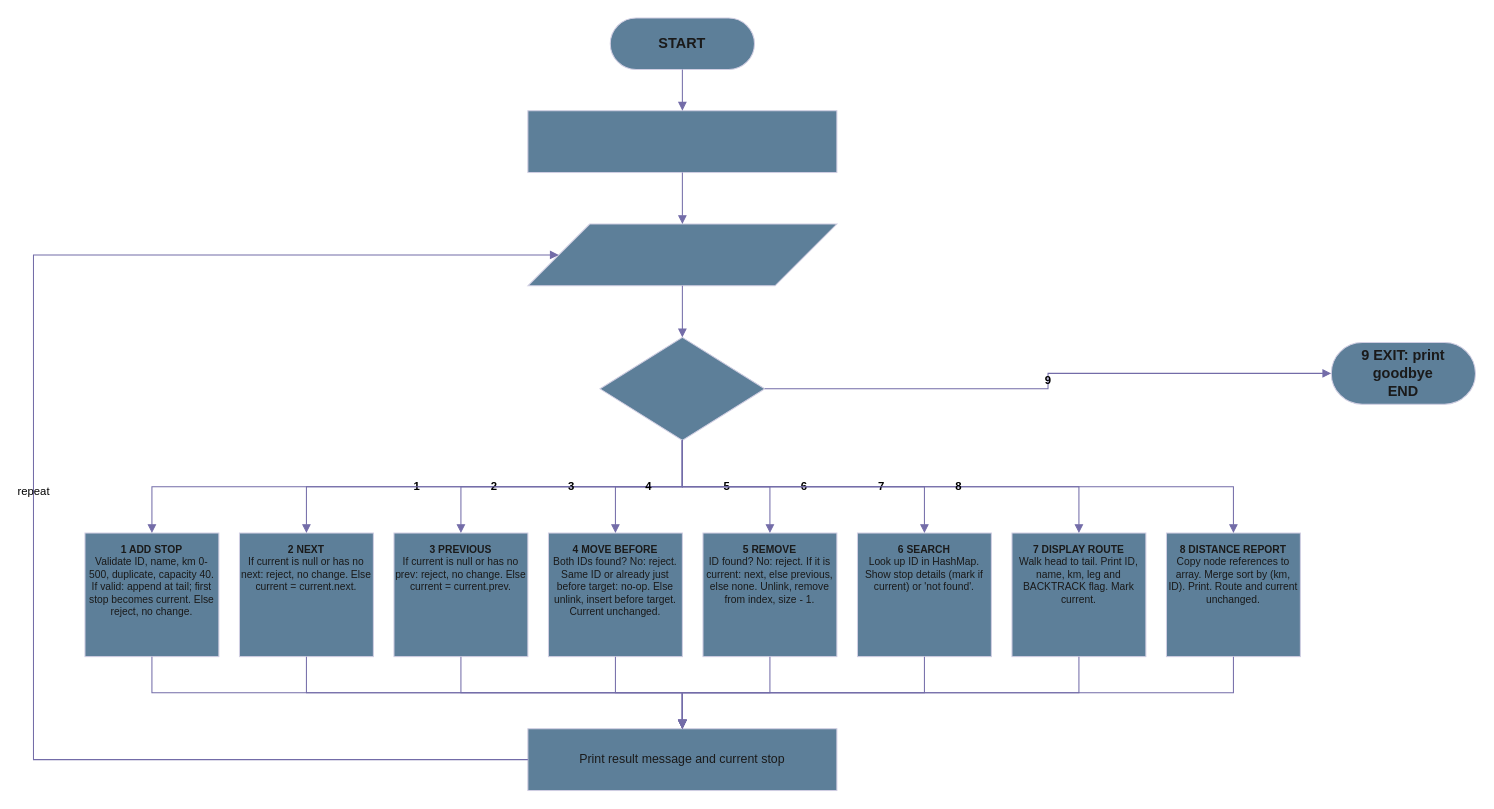
Some shapes in this 1494 by 809 pixel diagram are drawn without their labels. The centre of each missing label's shape, as x and y in pixels:
"Choice?" goes at (x=682, y=388).
"Initialize: head = tail = current = null, size = 0" goes at (x=682, y=141).
"Show menu, read choice (1-9)" goes at (x=682, y=254).
